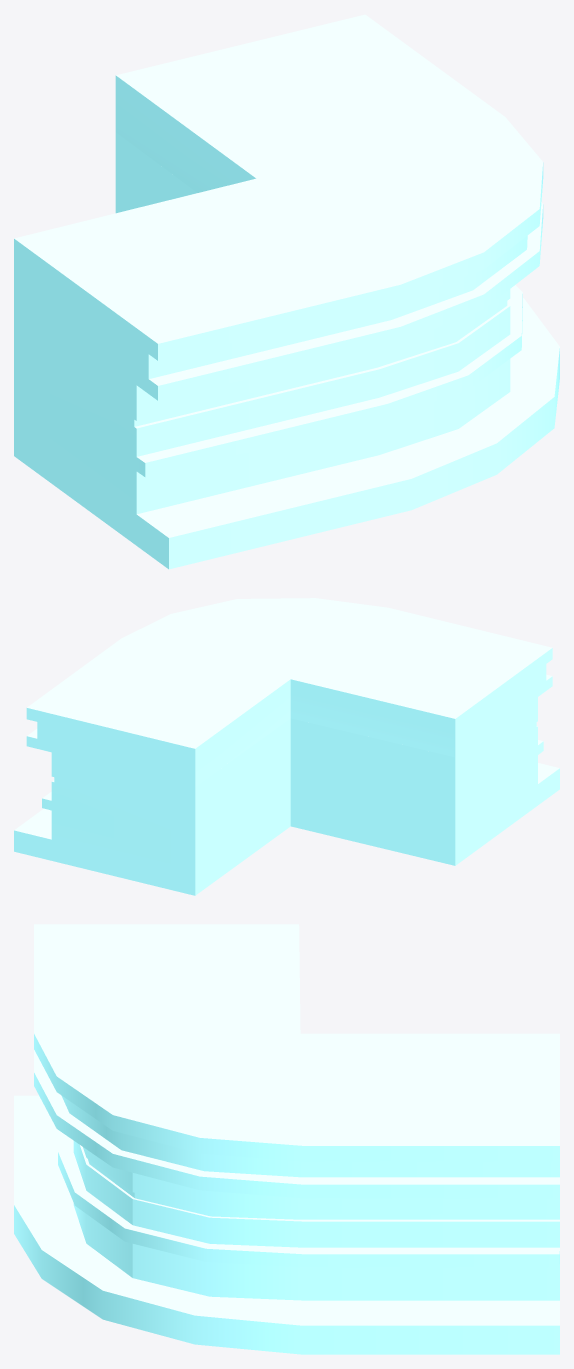
Rendered from Bancada_Virando.fbx.
The picture shows the model from 3 angles, top to bottom: view 1: azimuth 30°, elevation 25°; view 2: azimuth 150°, elevation 25°; view 3: azimuth 270°, elevation 25°; orthographic projection. The views are drawn at different scales.
Visible parts, largest first — view 1: Bancada_Virando; view 2: Bancada_Virando; view 3: Bancada_Virando.
Boxes of the visible parts, box(x1,y1,x2,y2) form: Bancada_Virando: box(14, 14, 559, 569); Bancada_Virando: box(14, 598, 559, 895); Bancada_Virando: box(14, 924, 559, 1354).
Bounding box in the file's own units: 304 × 124 × 306.
